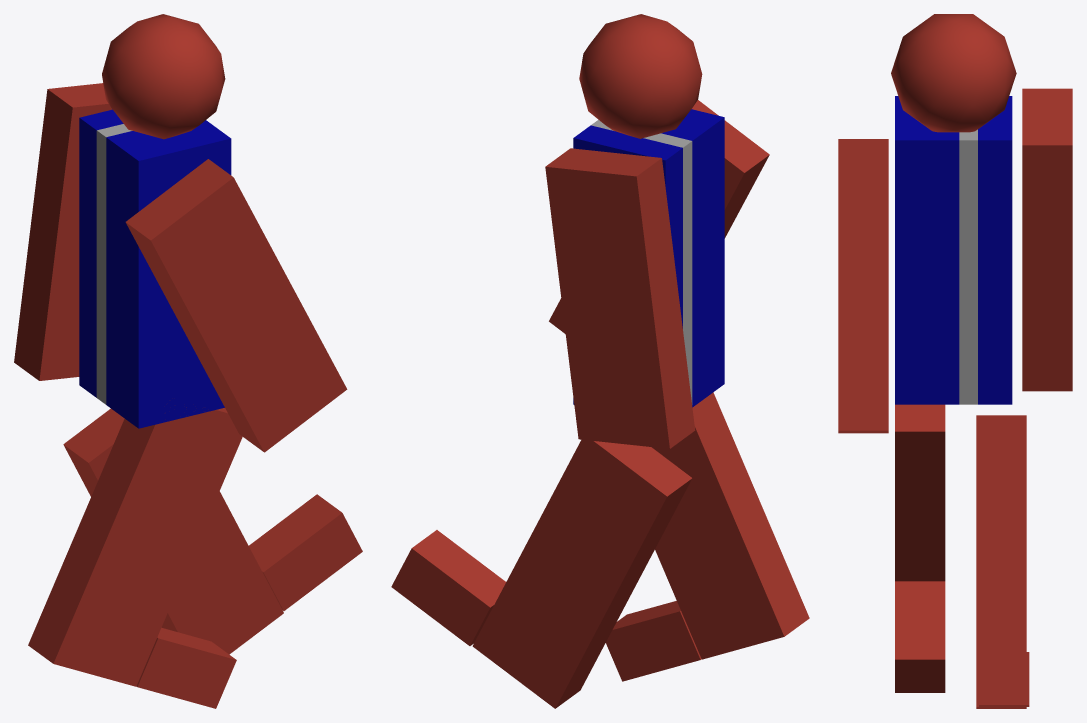
The model's file is player_000058.obj.
The picture shows the model from 3 angles, left to right: view 1: azimuth 30°, elevation 25°; view 2: azimuth 150°, elevation 25°; view 3: azimuth 270°, elevation 25°; orthographic projection.
Parts seen in each view (by area): view 1: Cube.001, Cube.005, Cube, Cube.006, Cube.002, Icosphere, Cube.004, Cube.003; view 2: Cube.006, Cube.002, Cube.001, Cube, Icosphere, Cube.004, Cube.003, Cube.005; view 3: Cube, Cube.006, Cube.005, Cube.002, Icosphere, Cube.001, Cube.003, Cube.004.
Part boxes in pixels (bbox=[...]): Cube.001: bbox=[28, 407, 242, 686]; Cube.005: bbox=[125, 159, 347, 452]; Cube: bbox=[79, 109, 231, 428]; Cube.006: bbox=[14, 83, 112, 380]; Cube.002: bbox=[63, 408, 283, 654]; Icosphere: bbox=[102, 14, 225, 139]; Cube.004: bbox=[249, 494, 362, 610]; Cube.003: bbox=[136, 627, 236, 708]; Cube.006: bbox=[545, 148, 695, 448]; Cube.002: bbox=[472, 439, 692, 708]; Cube.001: bbox=[651, 392, 809, 659]; Cube: bbox=[573, 109, 724, 407]; Icosphere: bbox=[579, 14, 702, 138]; Cube.004: bbox=[391, 530, 505, 645]; Cube.003: bbox=[606, 601, 701, 681]; Cube.005: bbox=[549, 100, 769, 333]; Cube: bbox=[895, 96, 1012, 404]; Cube.006: bbox=[1022, 88, 1072, 391]; Cube.005: bbox=[838, 139, 888, 433]; Cube.002: bbox=[976, 415, 1026, 708]; Icosphere: bbox=[891, 14, 1016, 132]; Cube.001: bbox=[895, 404, 945, 581]; Cube.003: bbox=[895, 581, 945, 692]; Cube.004: bbox=[979, 652, 1029, 706].
Size of the model in its own units: 1.57 by 2.88 by 0.9137.
